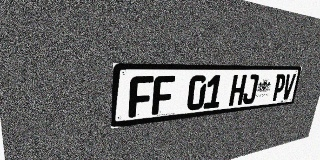0: (186, 75, 207, 111)
1: (203, 75, 223, 109)
F: (128, 76, 154, 118), (152, 76, 175, 115)
H: (228, 74, 247, 106)
J: (242, 74, 259, 105)
P: (271, 74, 287, 101)
V: (281, 74, 296, 100)
